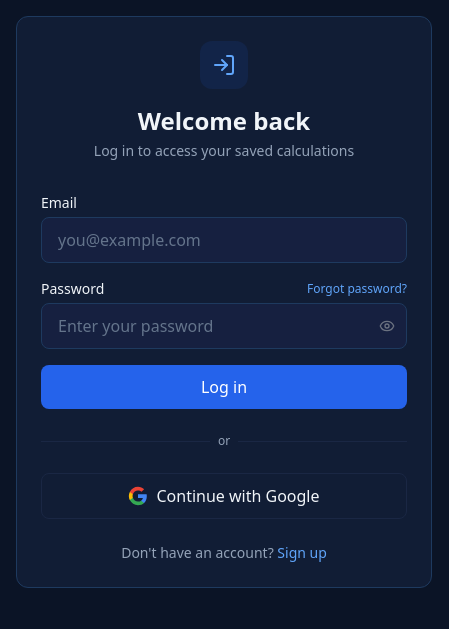
LoginPage - client-side validation › blocks submit and surfaces the invalid-email error for a malformed address
Type "not-an-email" into the field labelled "Email".
click(224, 240); type("not-an-email")  # box [41,217,407,263]
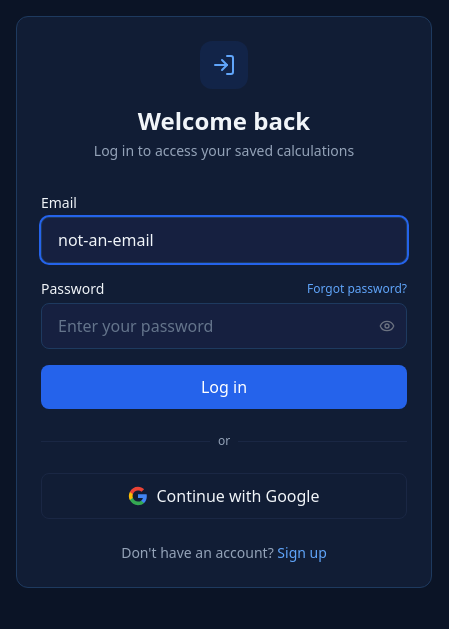
Click the button "Log in".
click(224, 387)  # box [41,365,407,409]
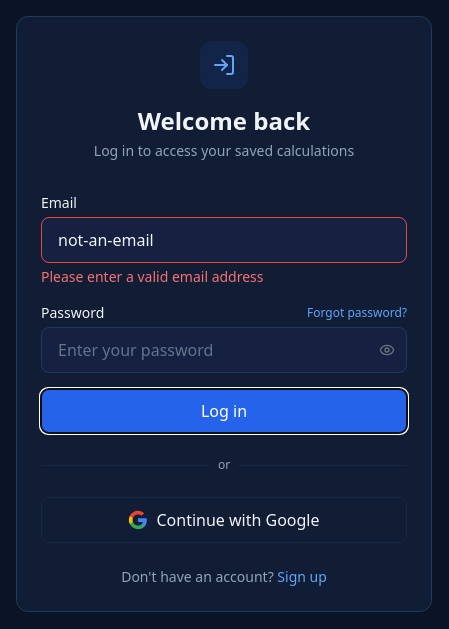
Now the message reads "Please enter a valid email address", box [41,267,264,286]
